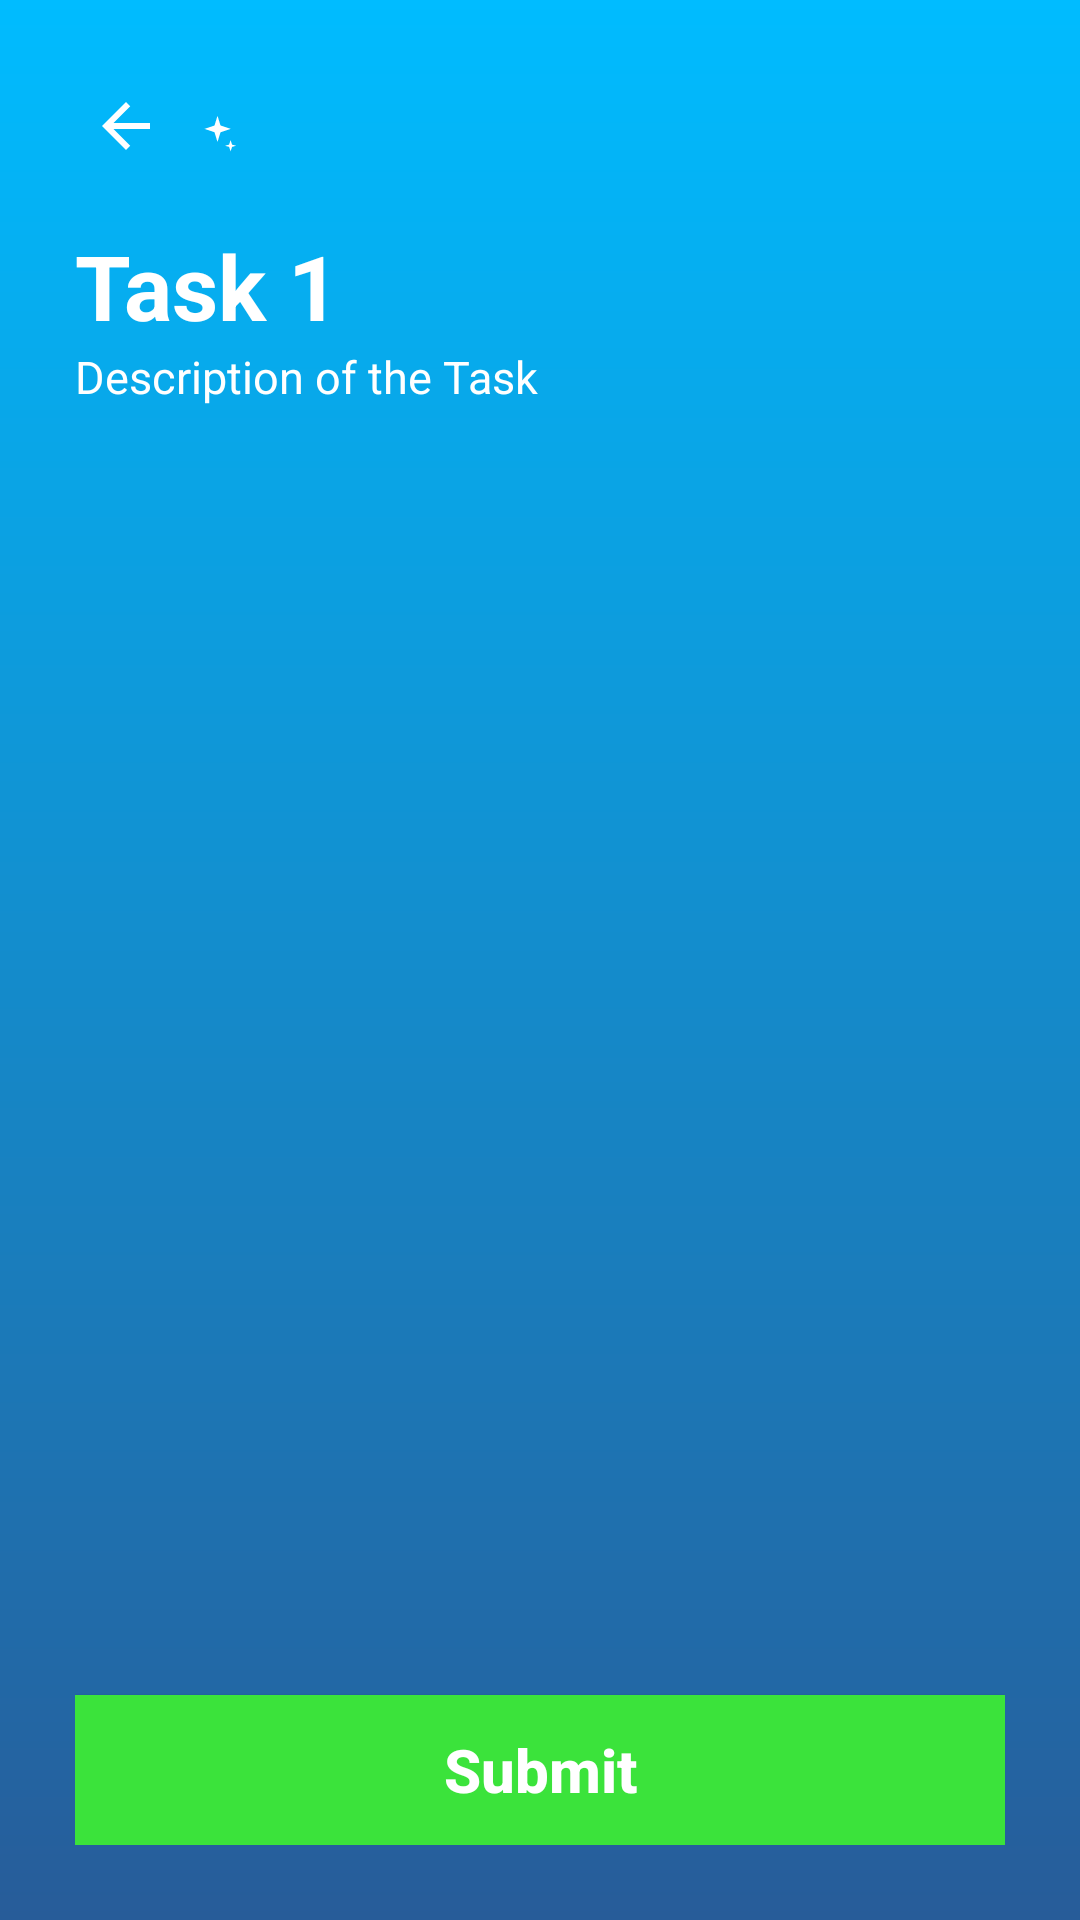

Icon click points for this 1080px×1920px phone screenshot, format (x=x, y=y):
Back: (x=126, y=126)
sparkle: (x=220, y=133)
